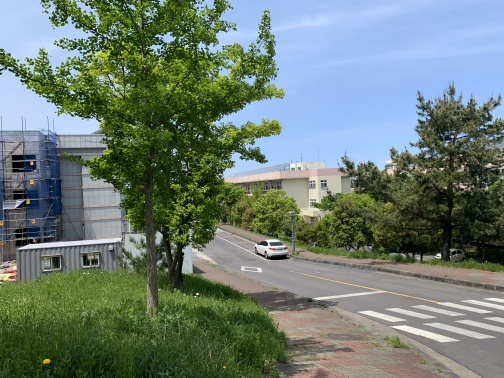College Of Education: (227, 153, 366, 223)
